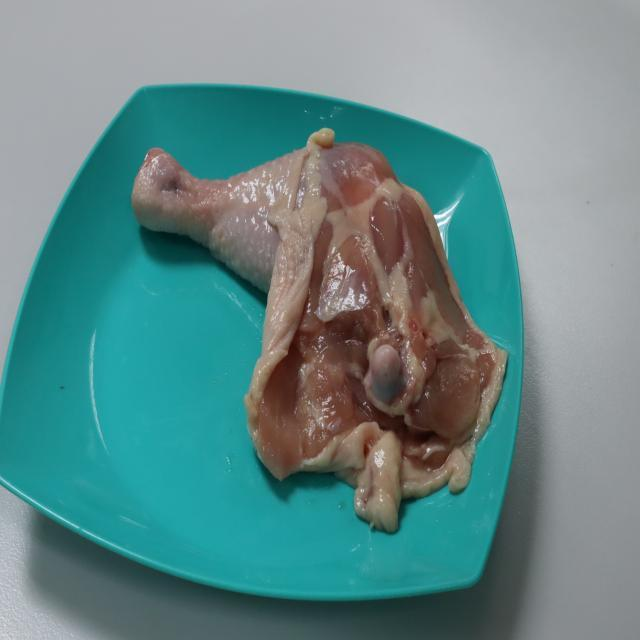quater: (128, 128, 486, 492)
